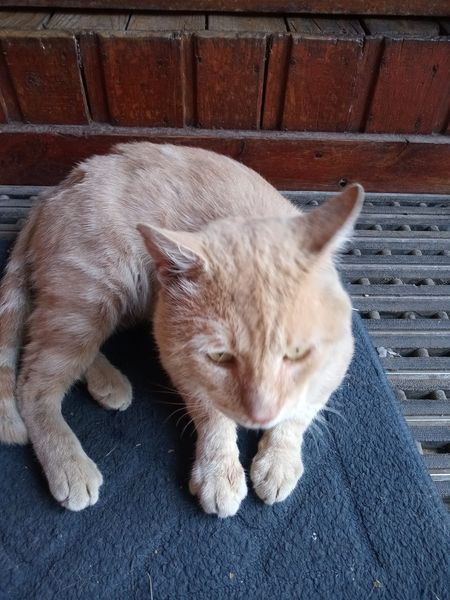cat: (3, 124, 375, 514)
